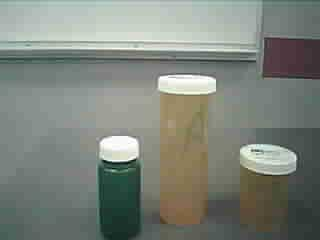Bottle A: (151, 70, 221, 226)
Bottle B: (237, 139, 298, 234)
Bottle C: (91, 128, 146, 239)
